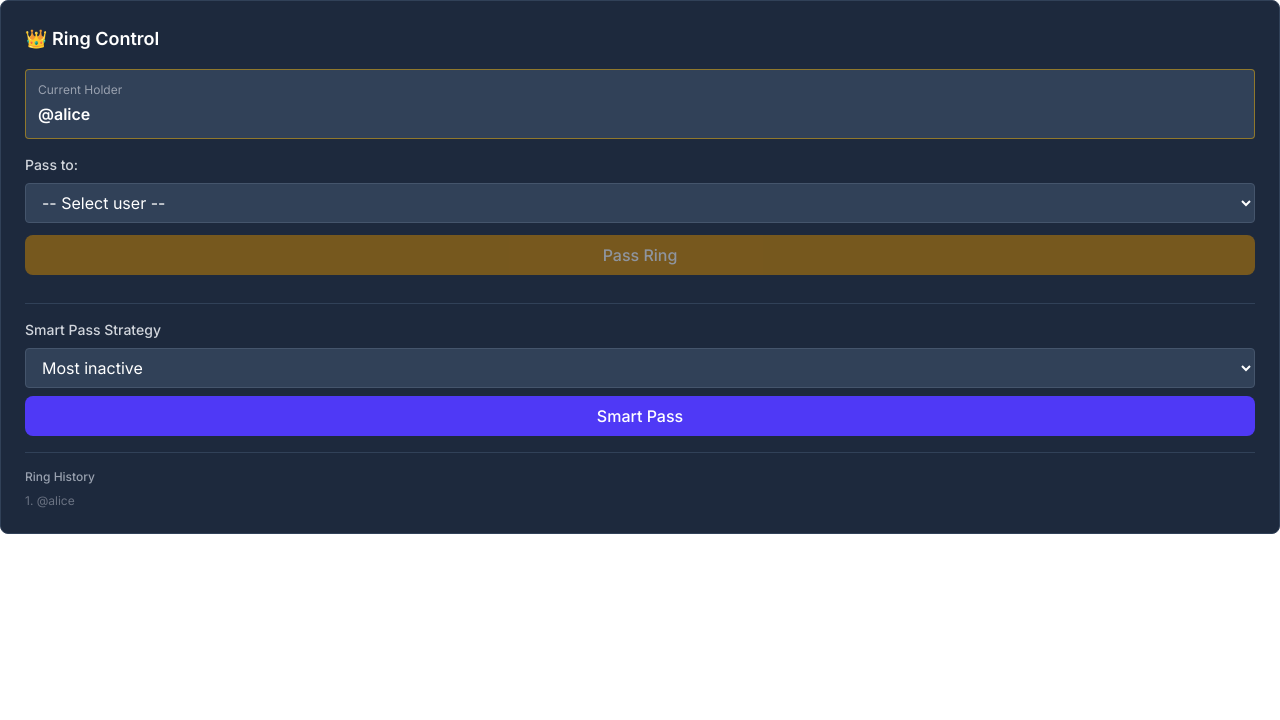
SmartRingPass › Error Handling › clears error when user interacts with controls
Click the button "Smart Pass": [640, 416] box [25, 396, 1255, 436]
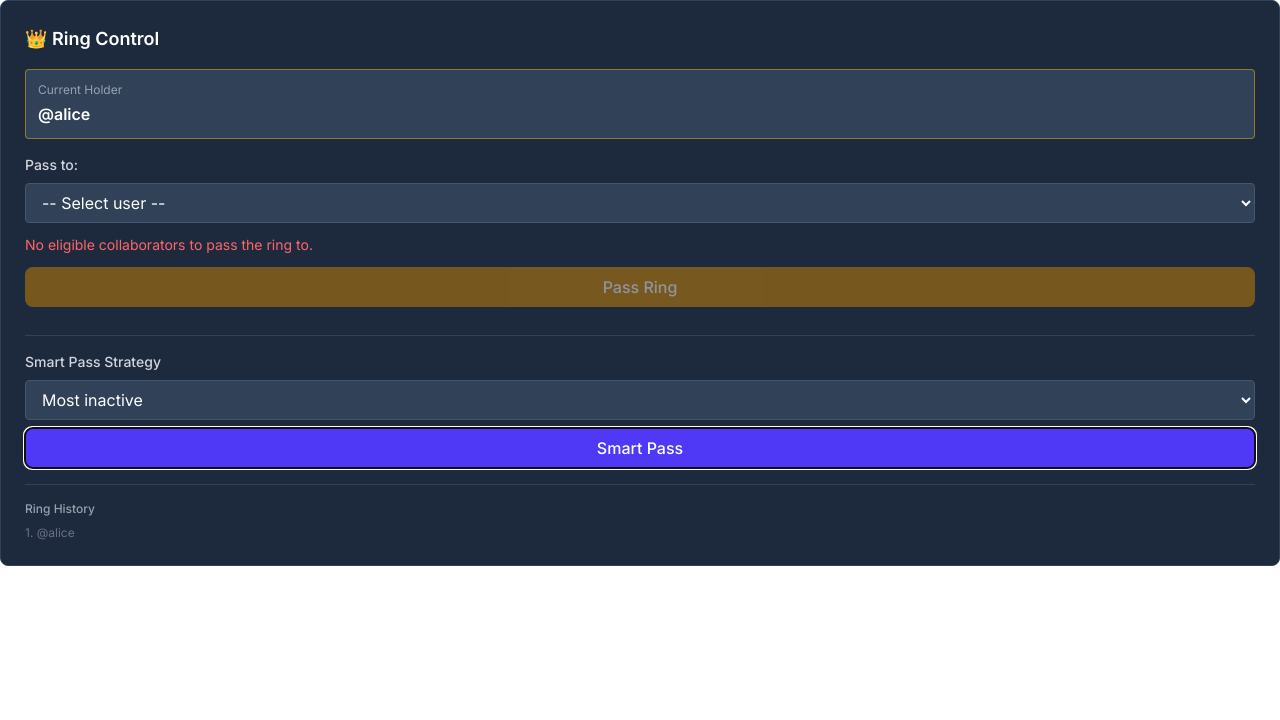
expect the text "No eligible collaborators to pass the ring to." is shown: met, box [25, 236, 313, 253]
# Clear error by selecting new strategy
Select "Round robin" in the dropdown labelled "Smart Pass Strategy": [640, 400] box [25, 380, 1255, 420]
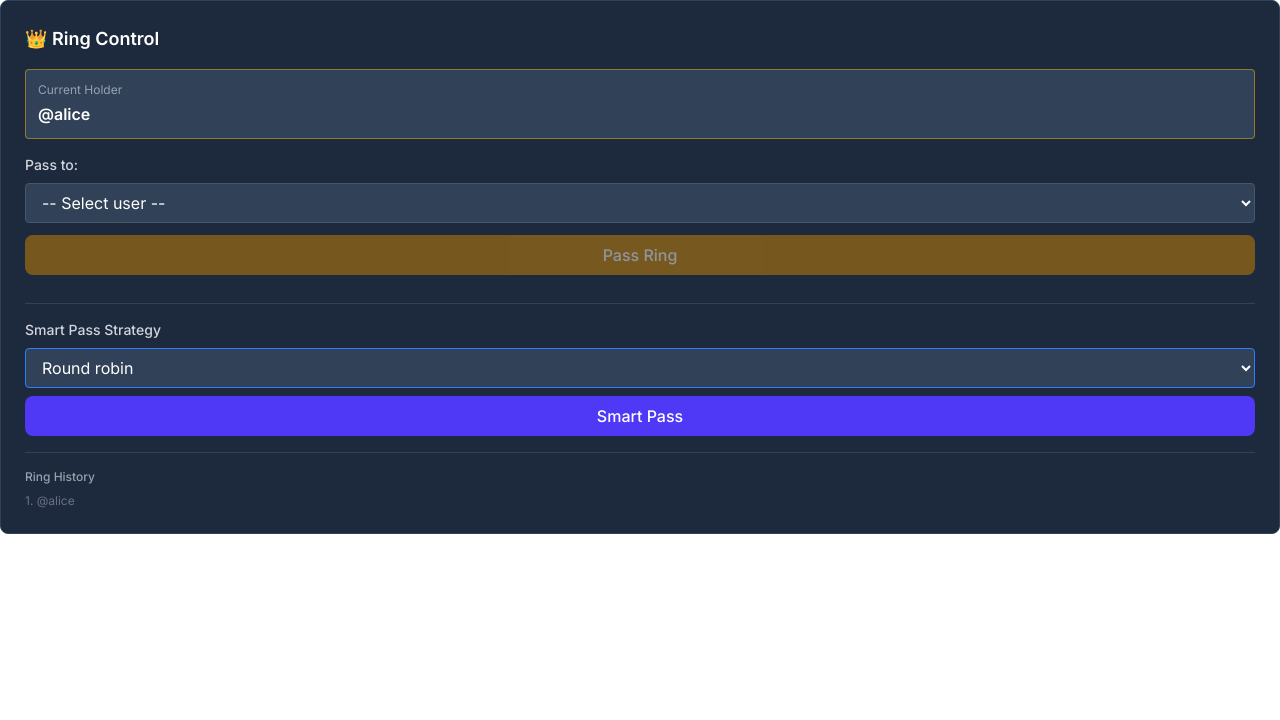
expect the text "No eligible collaborators" is gone: met
